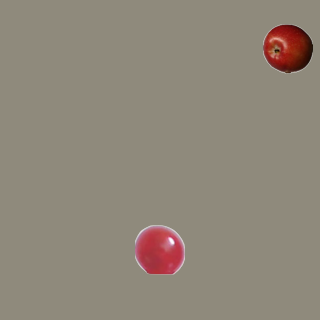Apple Braeburn: (262, 23, 312, 73)
Redcurrant: (134, 224, 184, 274)
